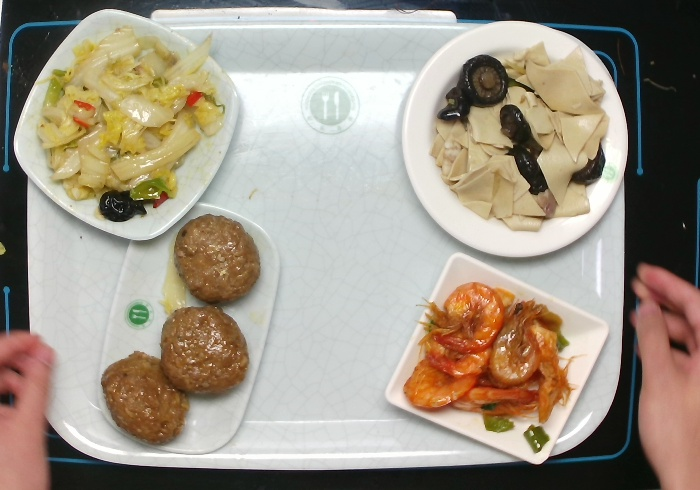WCQzf-Bai_Se_Si_Fang_Die: (375, 257, 609, 466)
WCQzf-Da_Si_Fang_Die: (13, 11, 245, 241)
WCQzf-Kuan_Bian_Yuan_Die: (400, 15, 629, 258)
WCQzf-Tuo_Yuan_Pan: (95, 198, 277, 458)
